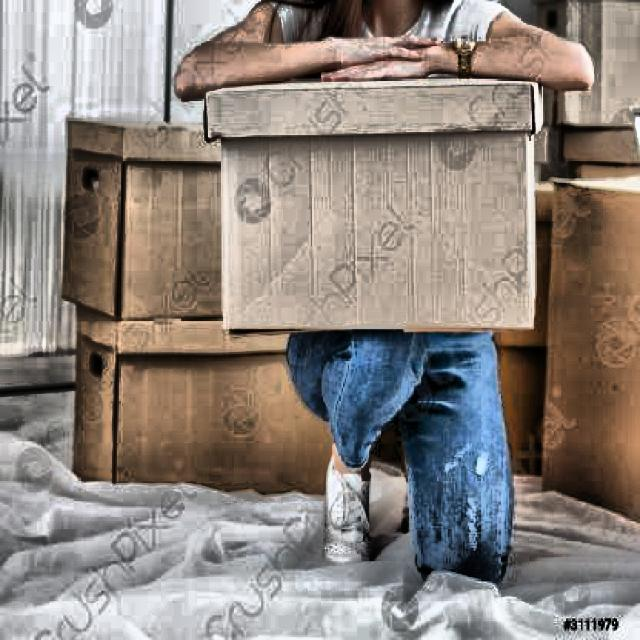Cardbox: (211, 80, 565, 346)
